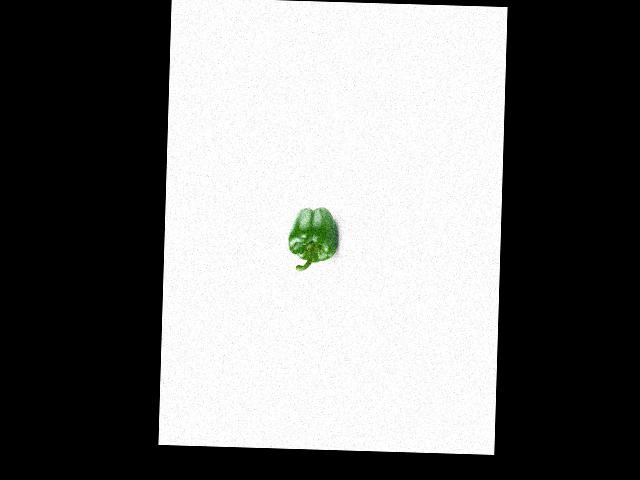bell_pepper: (286, 204, 338, 273)
